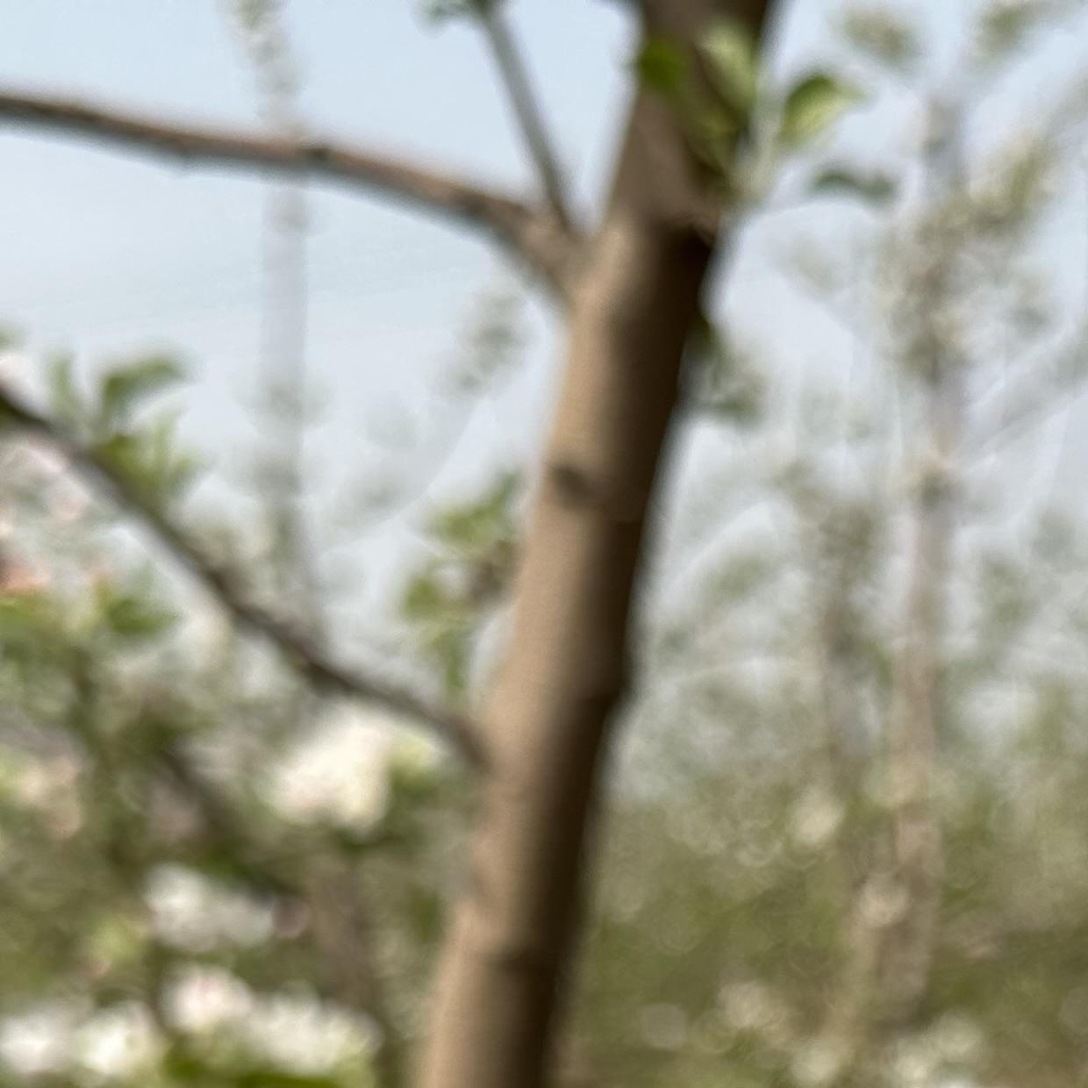apple_flower: (0, 862, 365, 1088), (252, 669, 466, 834)
